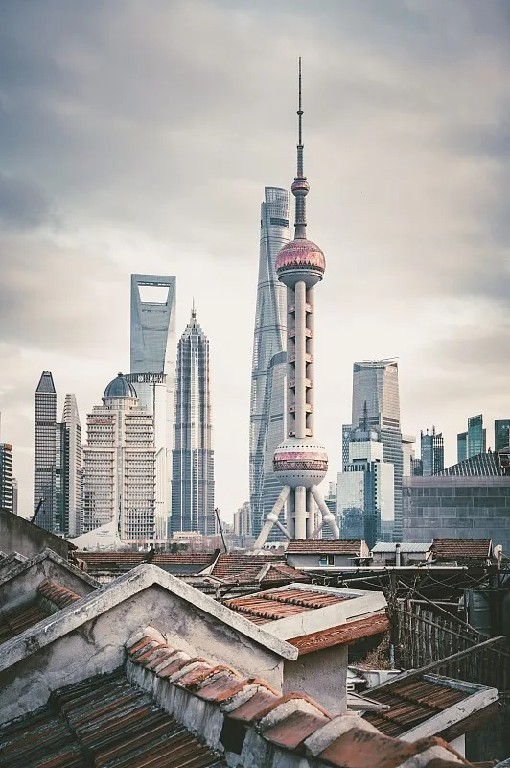Oriental: (253, 58, 340, 547)
